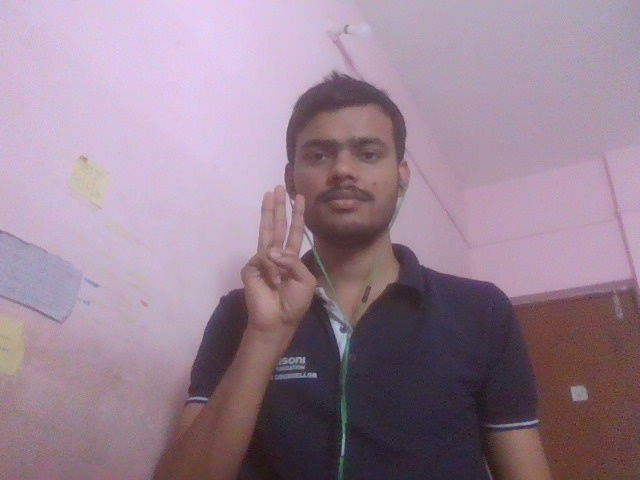Water: (197, 138, 342, 377)
